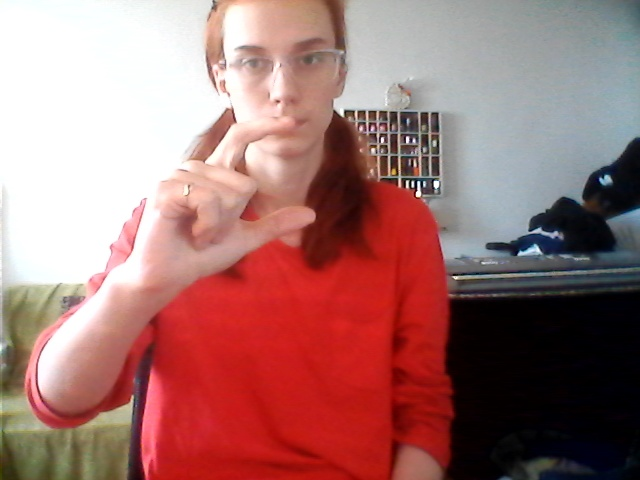c: (134, 113, 320, 278)
